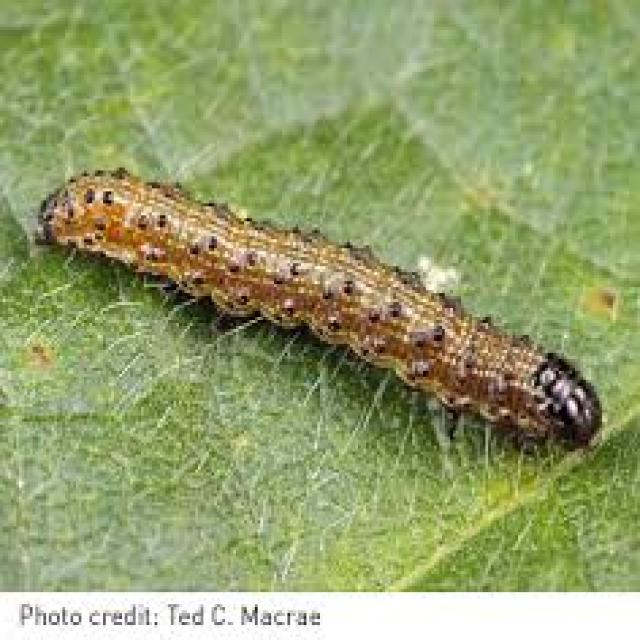armyworm: (35, 173, 603, 460)
